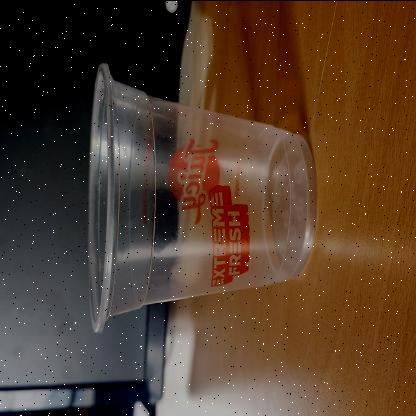Others: (89, 58, 317, 334)
